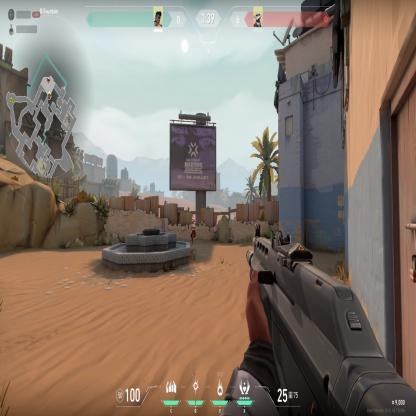enemy: (190, 216, 196, 245)
